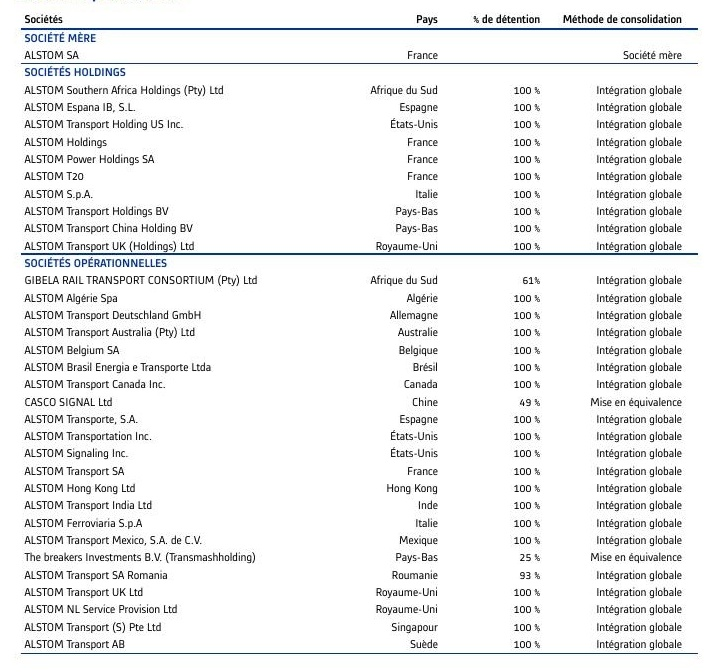table: (0, 0, 720, 672)
